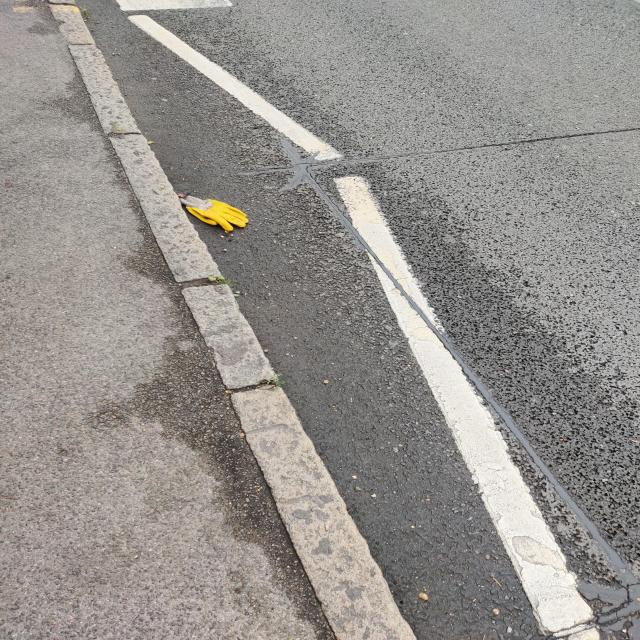litter: (179, 195, 250, 232)
